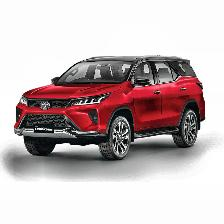NON-EV: (16, 55, 207, 159)
